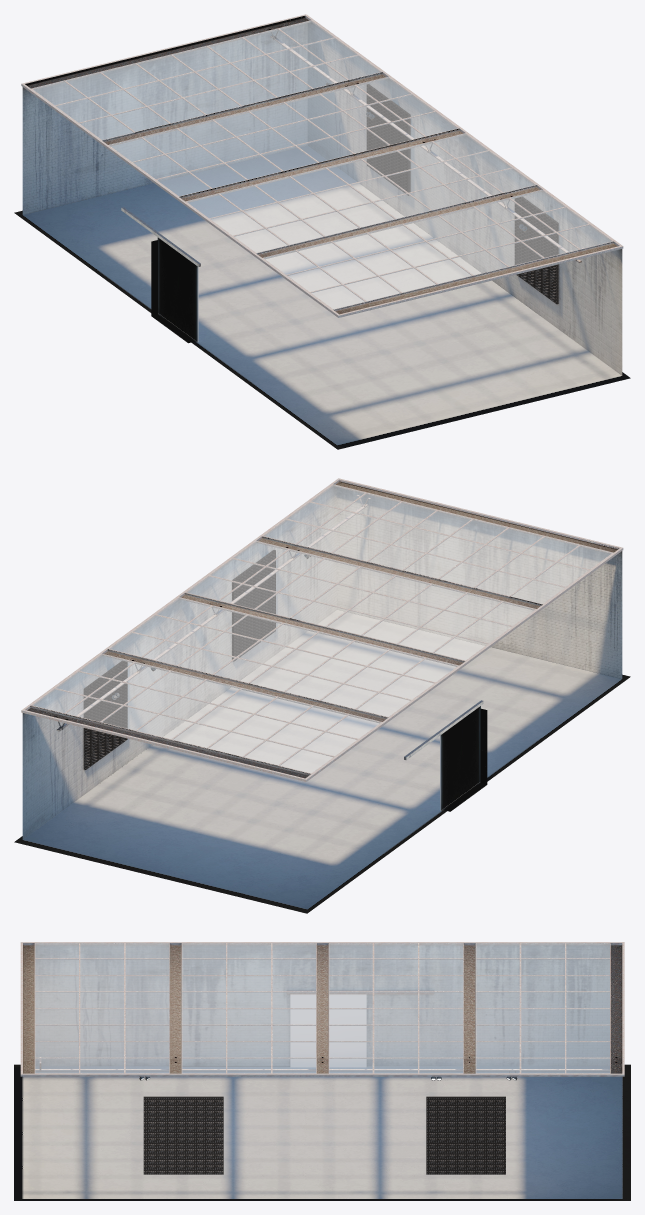
3 views of the same model, one above another, from view 1: azimuth 30°, elevation 25°; view 2: azimuth 150°, elevation 25°; view 3: azimuth 270°, elevation 25° (orthographic). The views are drawn at different scales.
Parts seen in each view (by area): view 1: floor, glass, walls, prop; view 2: floor, glass, walls, prop; view 3: floor, glass, walls, prop.
Part boxes in pixels (box(x1,y1,x2,y2)): floor: box(14, 145, 630, 449); glass: box(33, 21, 611, 308); walls: box(22, 17, 622, 375); prop: box(21, 14, 623, 342); floor: box(14, 609, 630, 913); glass: box(33, 485, 611, 772); walls: box(22, 480, 622, 839); prop: box(21, 478, 623, 810); floor: box(14, 1064, 630, 1200); glass: box(35, 943, 609, 1072); walls: box(35, 945, 609, 1066); prop: box(20, 942, 624, 1174).
Size of the model in its own units: 832 by 350 by 1574.
Materials: 9 (7 with a texture image).
